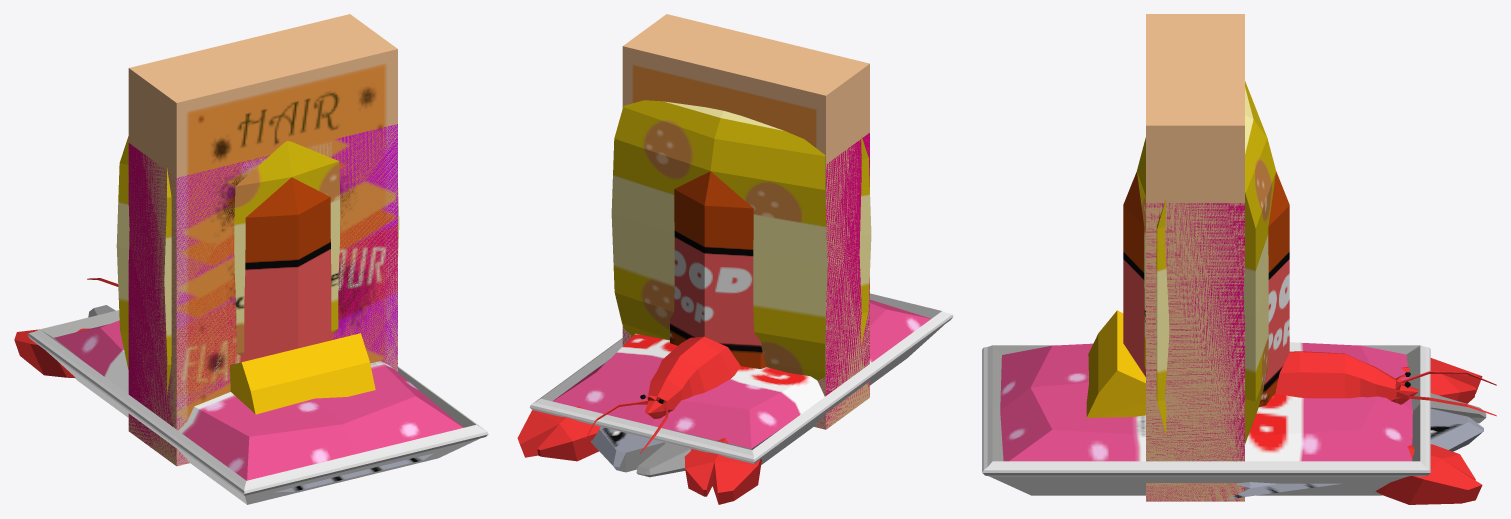
File: items.fbx
The picture shows the model from 3 angles, left to right: view 1: azimuth 30°, elevation 25°; view 2: azimuth 150°, elevation 25°; view 3: azimuth 270°, elevation 25°; orthographic projection. The views are drawn at different scales.
Parts seen in each view (by area): view 1: SN_CER_HAIR, SN_CER_FLOURFL, MT_GOOD, DK_POP_GOOD, SN_CHIP_POTATO, DR_NORMAL, MT_LOBBER, MT_FISH; view 2: SN_CHIP_POTATO, SN_CER_HAIR, MT_GOOD, DK_POP_GOOD, MT_LOBBER, SN_CER_FLOURFL, MT_FISH; view 3: SN_CER_HAIR, MT_GOOD, SN_CER_FLOURFL, MT_LOBBER, SN_CHIP_POTATO, DK_POP_GOOD, DR_NORMAL, MT_FISH.
Boxes of the visible parts, x1=… form: SN_CER_HAIR: x1=128, y1=14, x2=397, y2=466; SN_CER_FLOURFL: x1=128, y1=124, x2=397, y2=465; MT_GOOD: x1=27, y1=310, x2=488, y2=504; DK_POP_GOOD: x1=241, y1=177, x2=333, y2=362; SN_CHIP_POTATO: x1=116, y1=136, x2=399, y2=393; DR_NORMAL: x1=229, y1=333, x2=375, y2=414; MT_LOBBER: x1=14, y1=278, x2=118, y2=377; MT_FISH: x1=88, y1=305, x2=433, y2=492; SN_CHIP_POTATO: x1=611, y1=100, x2=871, y2=380; SN_CER_HAIR: x1=622, y1=14, x2=869, y2=429; MT_GOOD: x1=529, y1=293, x2=953, y2=464; DK_POP_GOOD: x1=670, y1=171, x2=766, y2=368; MT_LOBBER: x1=517, y1=336, x2=761, y2=504; SN_CER_FLOURFL: x1=622, y1=133, x2=869, y2=429; MT_FISH: x1=590, y1=427, x2=691, y2=477; SN_CER_HAIR: x1=1146, y1=14, x2=1244, y2=501; MT_GOOD: x1=982, y1=342, x2=1430, y2=495; SN_CER_FLOURFL: x1=1146, y1=203, x2=1244, y2=501; MT_LOBBER: x1=1275, y1=351, x2=1496, y2=504; SN_CHIP_POTATO: x1=1137, y1=81, x2=1276, y2=443; DK_POP_GOOD: x1=1123, y1=171, x2=1289, y2=407; DR_NORMAL: x1=1086, y1=310, x2=1145, y2=417; MT_FISH: x1=1226, y1=393, x2=1486, y2=499.
Bounding box in the file's own units: 452 × 612 × 738.
